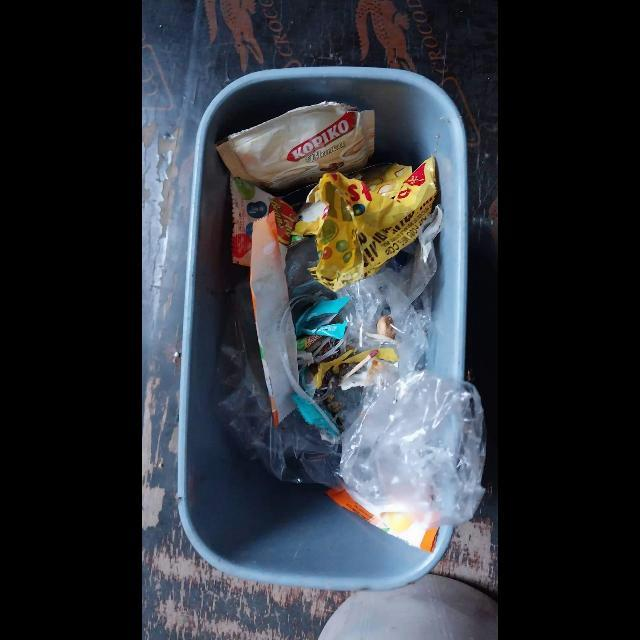food_wrapper: (291, 157, 441, 292), (219, 102, 374, 193), (250, 211, 300, 429), (326, 489, 440, 553), (230, 176, 296, 270), (295, 296, 350, 340), (292, 393, 339, 437), (297, 335, 322, 351)
plastic_bag: (340, 371, 487, 524), (218, 381, 342, 488)
